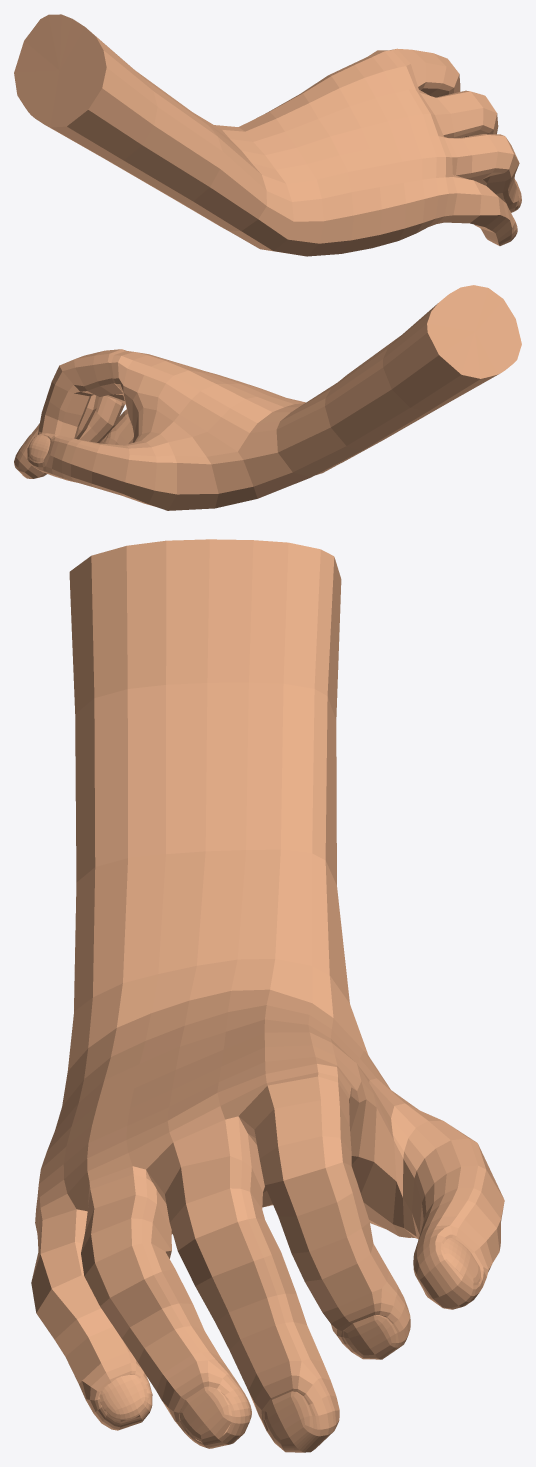
File: hand.fbx
3 views of the same model, one above another, from view 1: azimuth 30°, elevation 25°; view 2: azimuth 150°, elevation 25°; view 3: azimuth 270°, elevation 25° (orthographic). The views are drawn at different scales.
Visible parts, largest first — view 1: Cube.002; view 2: Cube.002; view 3: Cube.002.
Part boxes in pixels (x1,y1,x2,y2): Cube.002: (14,14,521,256); Cube.002: (14,285,521,510); Cube.002: (31,539,504,1452).
Size of the model in its own units: 23.28 by 13.08 by 10.4.
